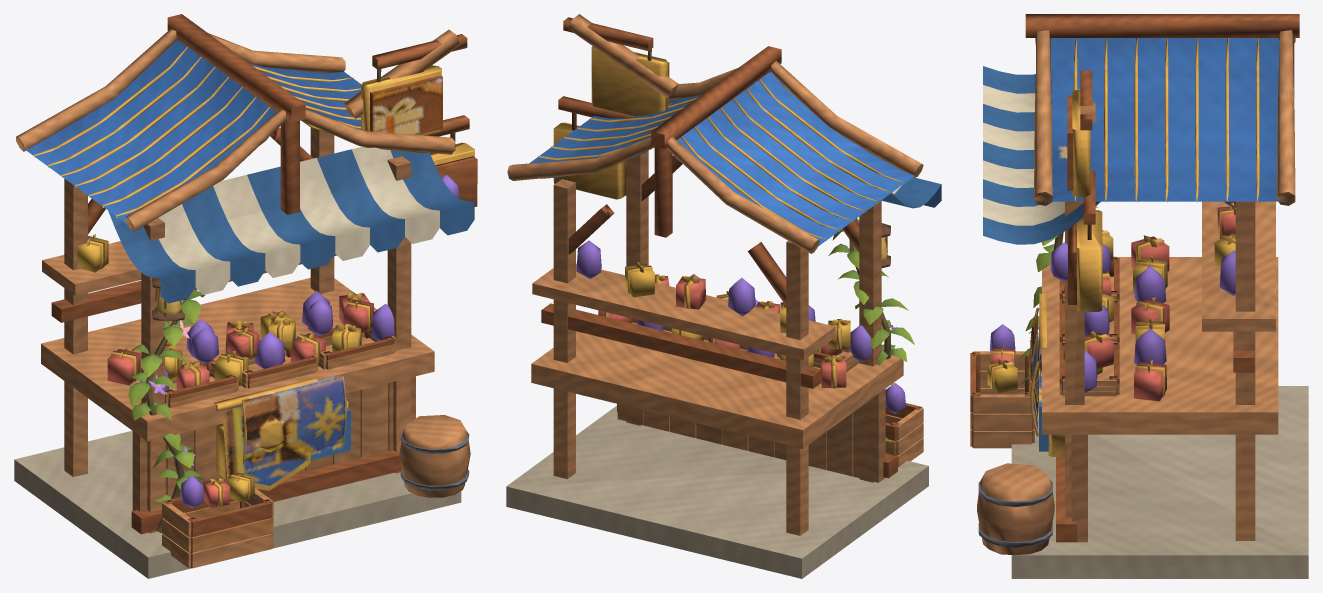
Rendered from stall_gifts.glb.
3 renders of one model, left to right at view 1: azimuth 30°, elevation 25°; view 2: azimuth 150°, elevation 25°; view 3: azimuth 270°, elevation 25°, orthographic. The views are drawn at different scales.
Visible parts, largest first — view 1: Body; view 2: Body; view 3: Body.
Boxes of the visible parts, box(x1,y1,x2,y2) form: Body: box(14, 14, 477, 578); Body: box(506, 14, 941, 578); Body: box(970, 14, 1308, 578).
Size of the model in its own units: 2.84 by 3.27 by 2.06.
Materials: 1 (1 with a texture image).
